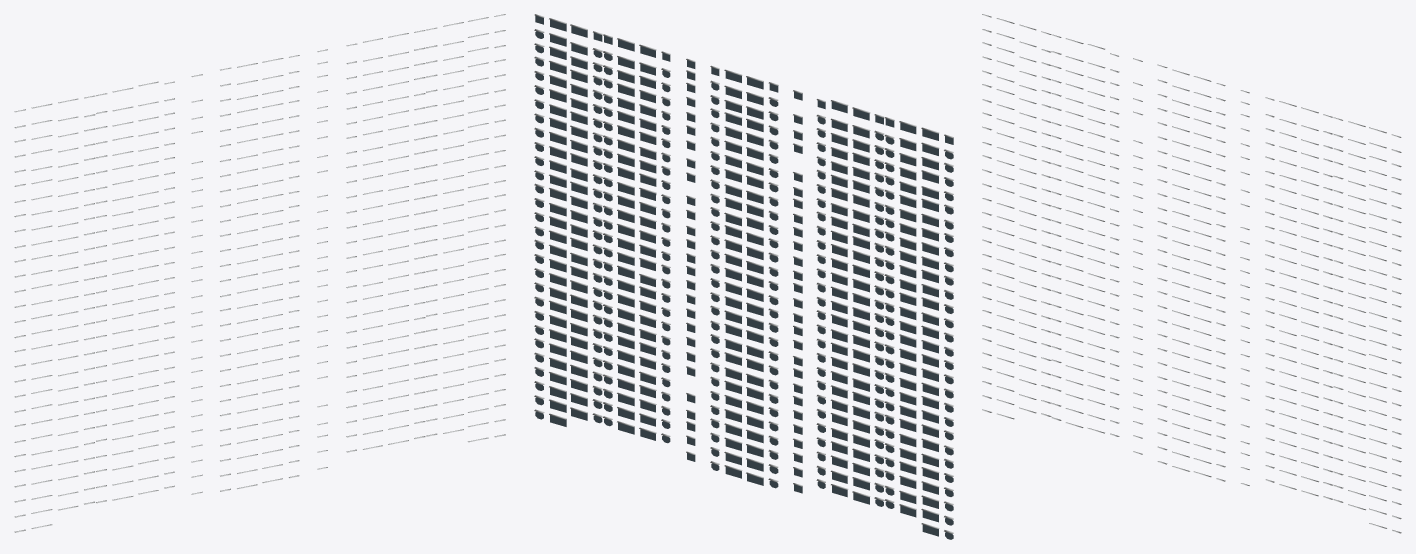
3 renders of one model, left to right at view 1: azimuth 30°, elevation 25°; view 2: azimuth 150°, elevation 25°; view 3: azimuth 330°, elevation 25°, orthographic. The views are drawn at different scales.
Visible parts, largest first — view 1: Millenia window head; view 2: Millenia bay glazing, Millenia window head; view 3: Millenia window head.
Boxes of the visible parts, box(x1,y1,x2,y2) form: Millenia window head: box(14, 14, 505, 532); Millenia bay glazing: box(535, 15, 953, 539); Millenia window head: box(534, 14, 953, 533); Millenia window head: box(982, 14, 1401, 533).
Size of the model in its own units: 104 by 91.34 by 9.18.
